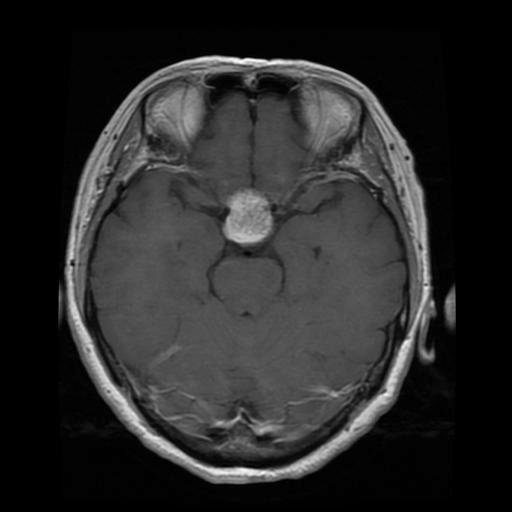Tumour-Pituitary: (217, 189, 280, 249)
